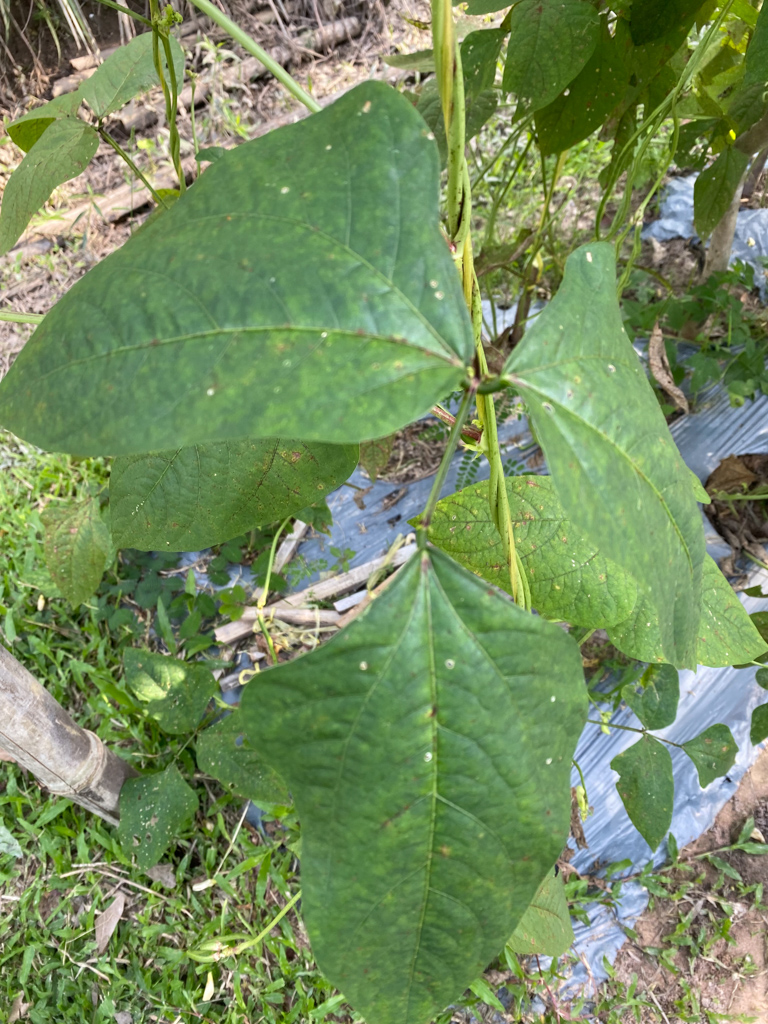Rust: (416, 474, 632, 630)
